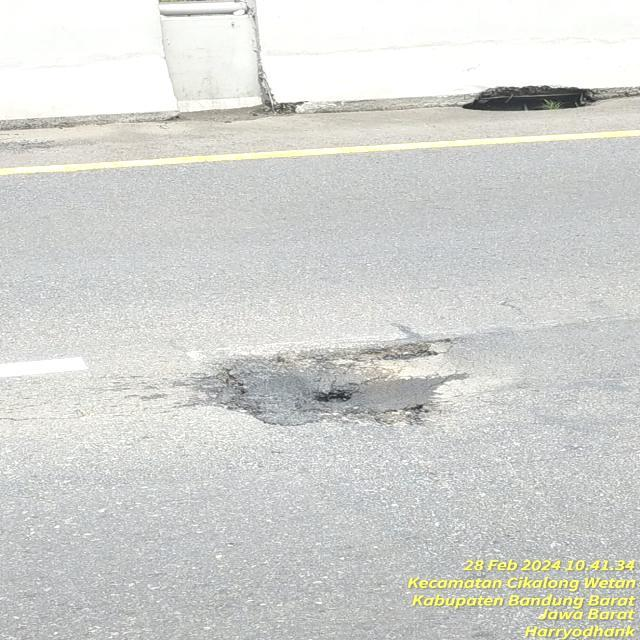Buraco: (265, 335, 467, 372), (460, 83, 600, 114), (306, 381, 364, 406)
